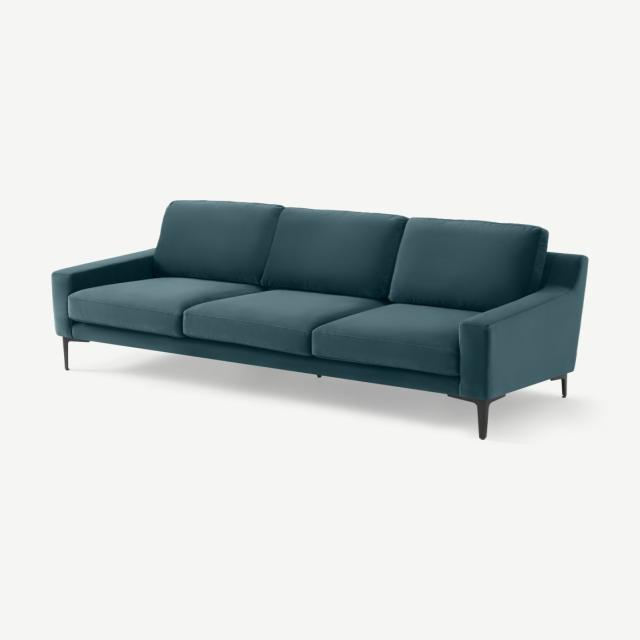back_cushion: (153, 201, 547, 311)
left_arm: (459, 253, 587, 399)
legs: (448, 395, 504, 439), (62, 337, 89, 370), (554, 375, 565, 396)
right_arm: (51, 249, 154, 338)
seat_cushion: (67, 277, 471, 394)
stallion-sofa: (0, 0, 639, 639)
